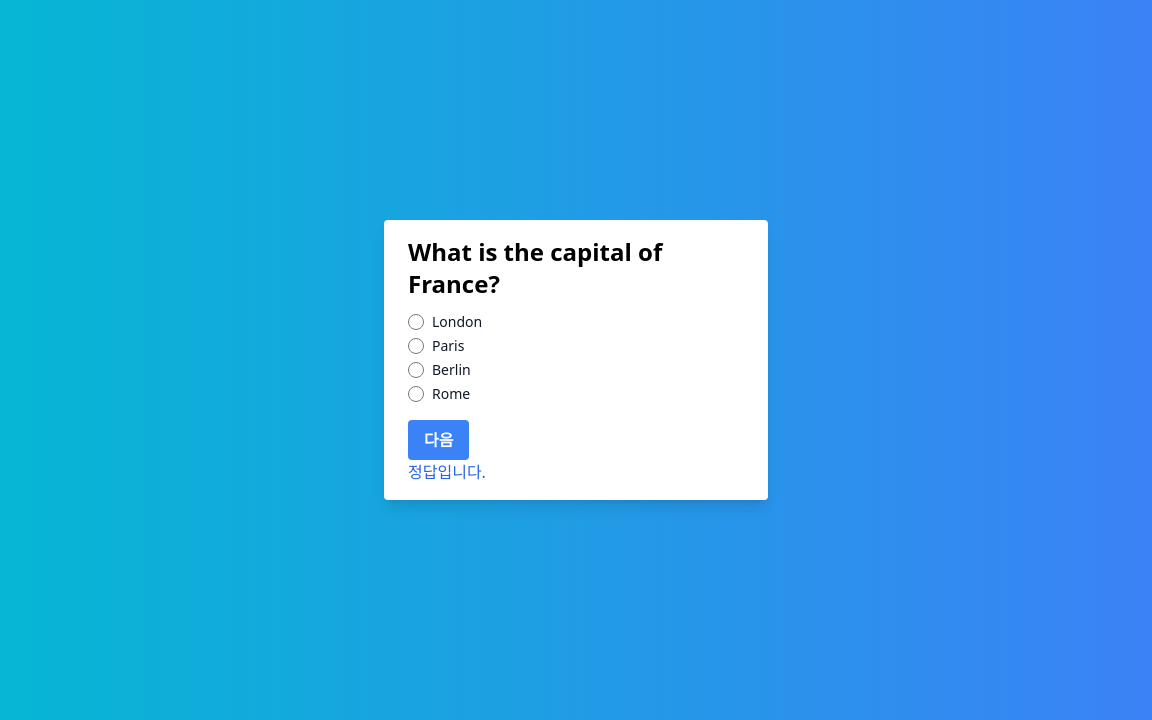
QuizForm 의 동적인 상태에 따른 처리 › 답안선택시 틀렸을경우 "틀렸습니다." 노출
Click the text "Paris" at (448, 346), box [432, 336, 464, 356]
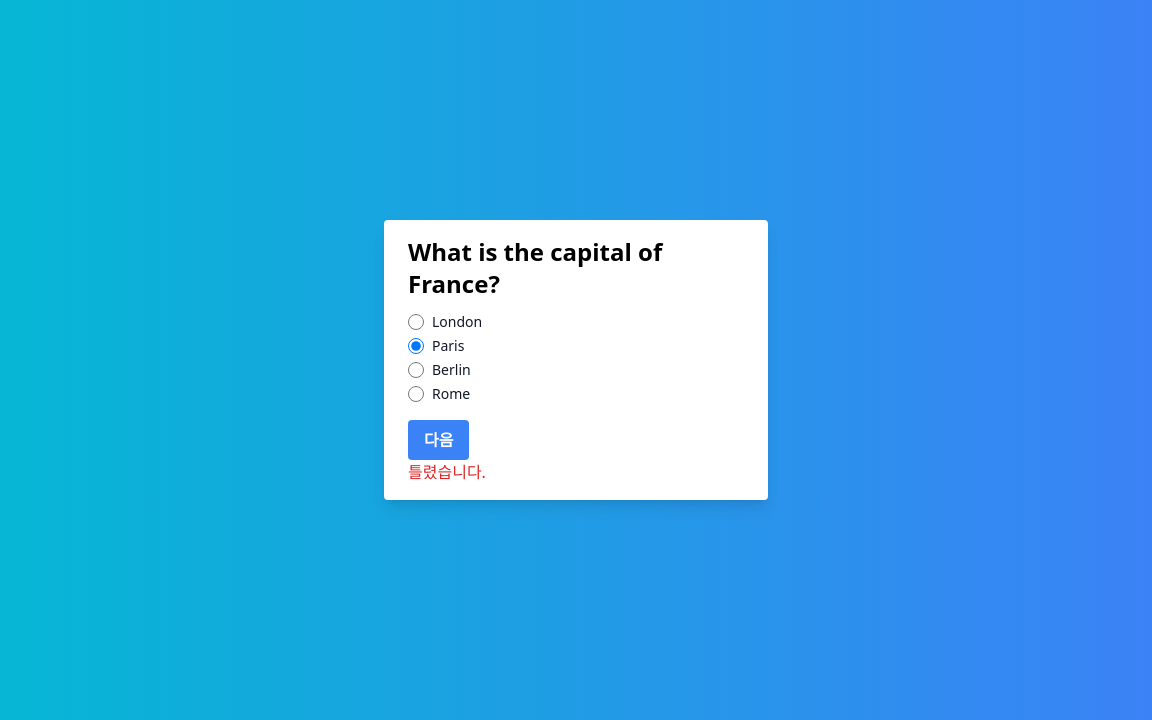
expect the text "틀렸습니다." is shown: met, box [408, 461, 486, 483]
